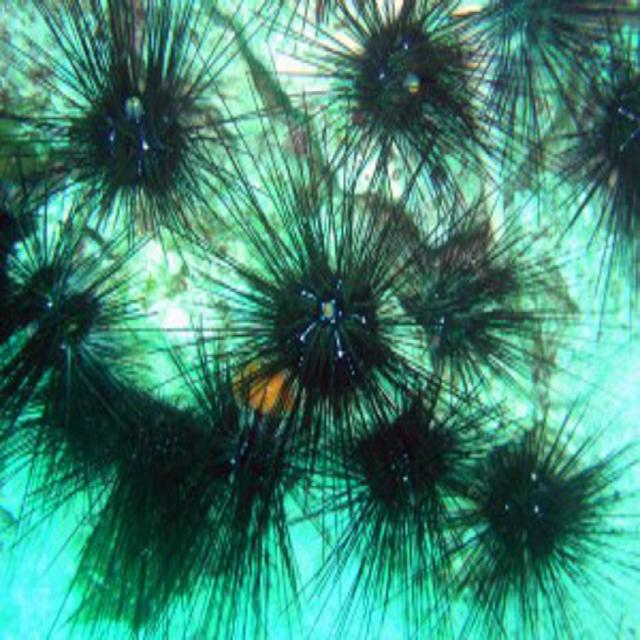Urchin: (180, 102, 442, 442), (18, 1, 251, 236), (426, 390, 639, 629), (345, 172, 569, 376), (315, 1, 510, 170), (324, 359, 480, 566), (563, 56, 640, 248)
